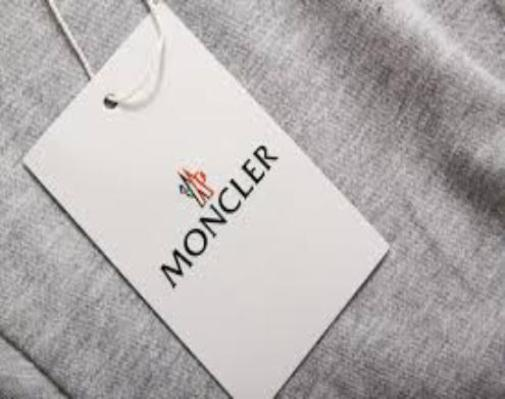MONCLER: (170, 164, 218, 207)
